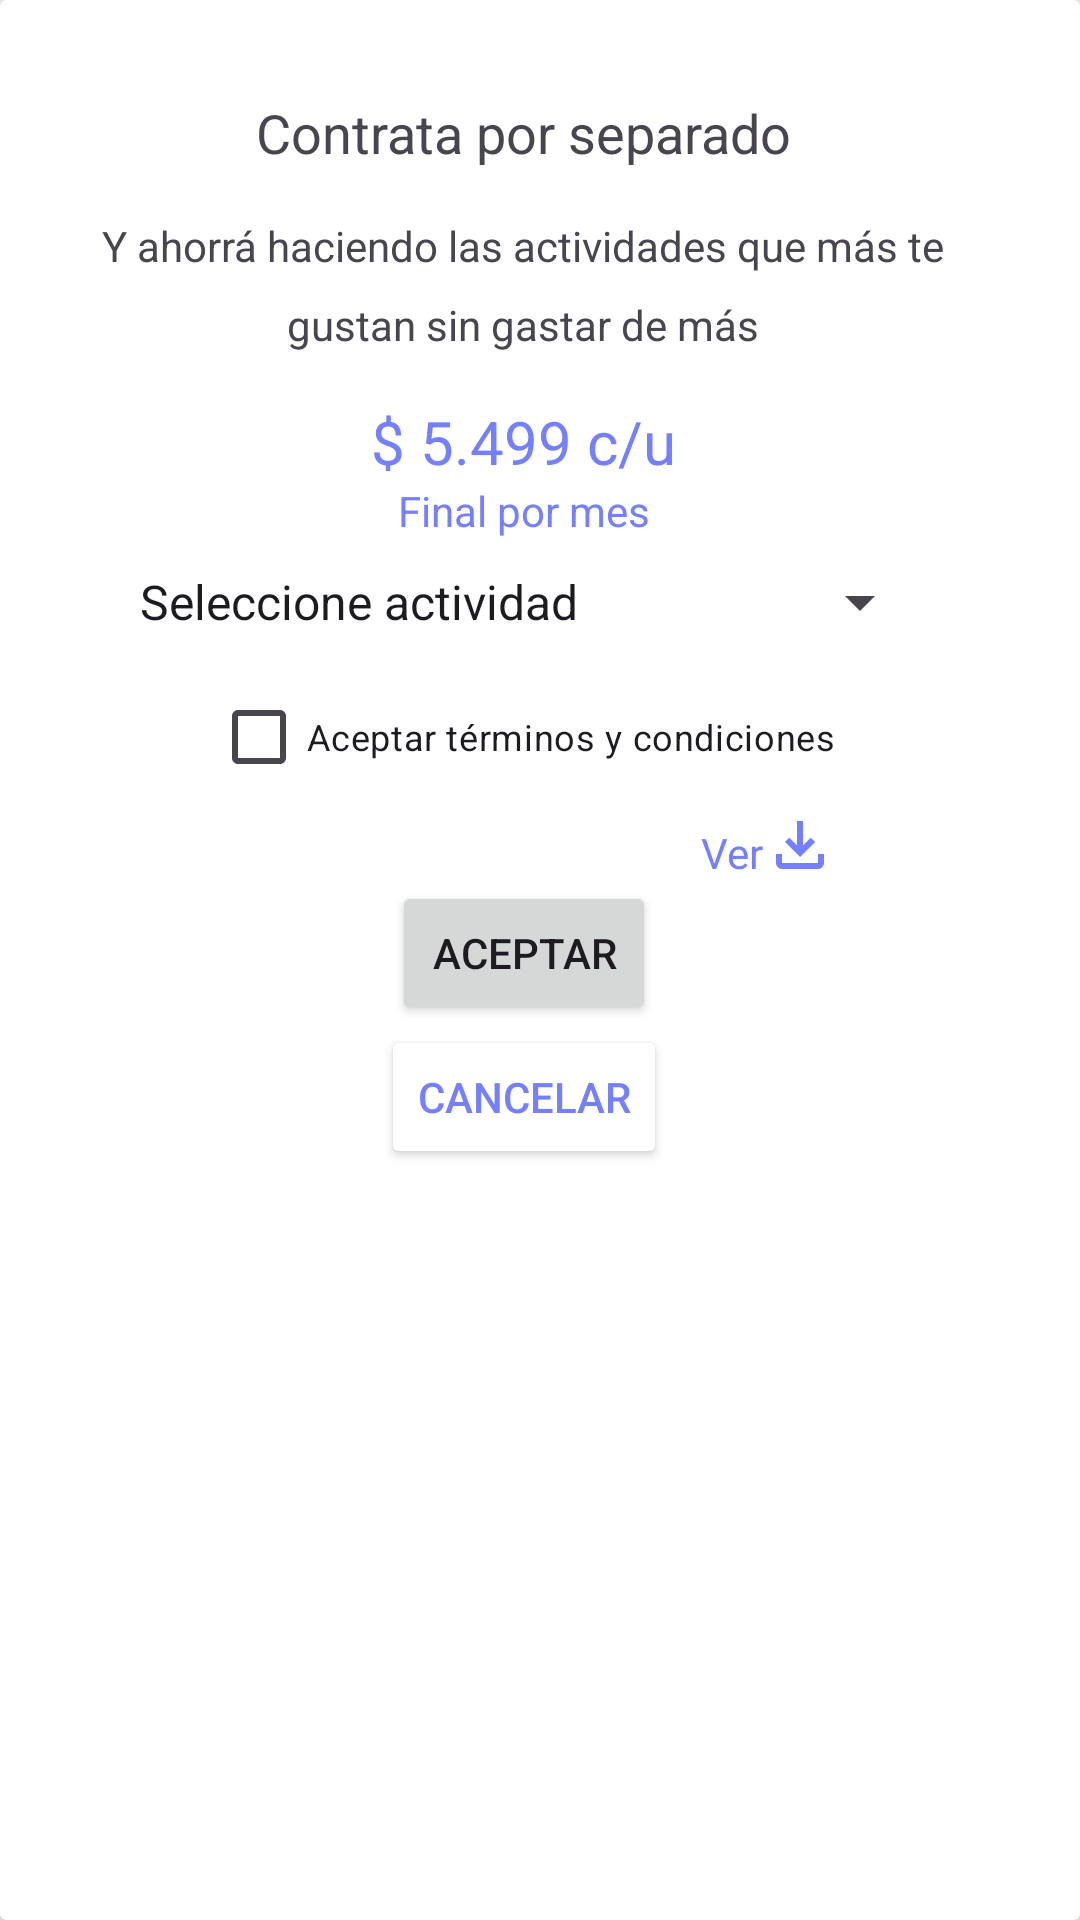

Screen size 1080*1920. Icon name, then its box in pixels as region(x1, y1, x2, y2):
Download: region(776, 821, 824, 869)
